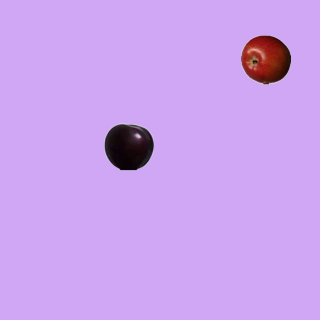Apple Braeburn: (240, 34, 290, 84)
Cherry Wax Black: (103, 121, 153, 171)
